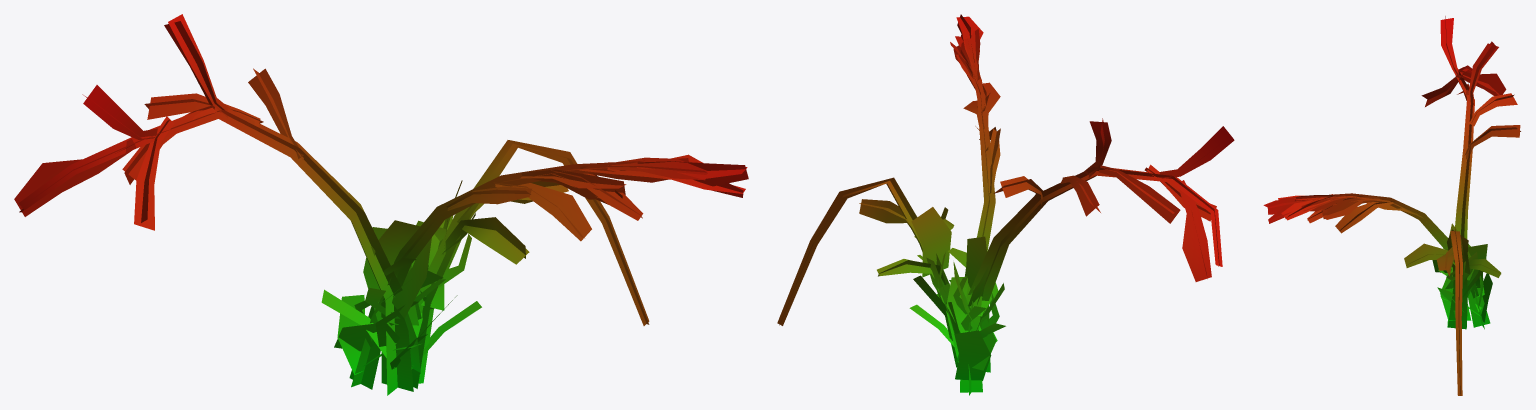
File: Var7_LOD1.fbx
3 renders of one model, left to right at view 1: azimuth 30°, elevation 25°; view 2: azimuth 150°, elevation 25°; view 3: azimuth 270°, elevation 25°, orthographic. The views are drawn at different scales.
Visible parts, largest first — view 1: _0d06_Var7_LOD1; view 2: _0d06_Var7_LOD1; view 3: _0d06_Var7_LOD1.
Boxes of the visible parts, left/top/right/bottom form: _0d06_Var7_LOD1: left=14, top=14, right=748, bottom=395; _0d06_Var7_LOD1: left=777, top=14, right=1234, bottom=395; _0d06_Var7_LOD1: left=1263, top=16, right=1520, bottom=395.
Size of the model in its own units: 65.95 by 42.15 by 42.23.
